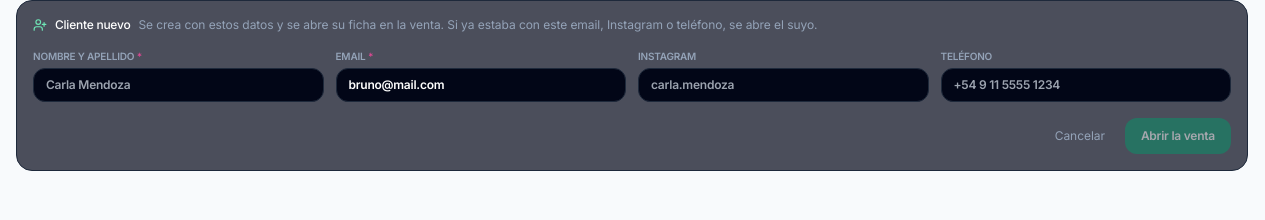
Test: ClienteNuevoVenta › un error del backend queda a la vista, marcado en su campo
The width and height of the screenshot is (1265, 220).
Type "Bruno" into the field labelled "Nombre y apellido *" at (178, 85), box [33, 68, 324, 102]
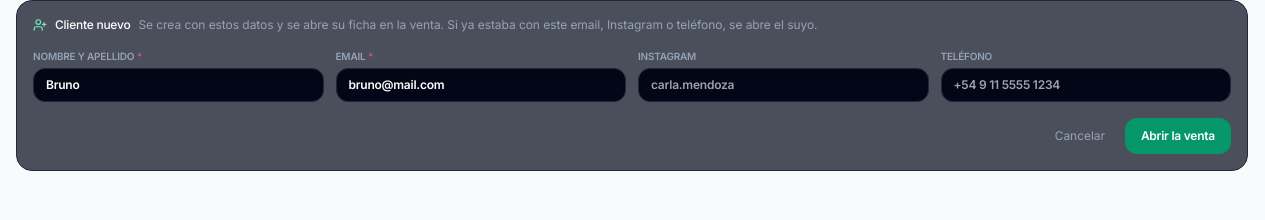
Click the button "Abrir la venta" at (1178, 136), box [1125, 118, 1231, 154]
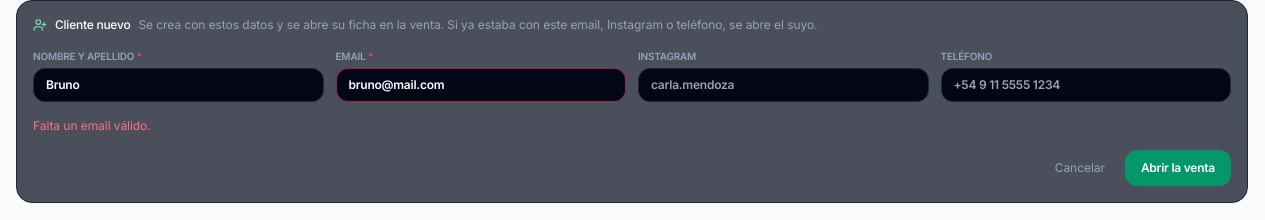
Now the message reads "Falta un email válido.", box [33, 118, 151, 133]
